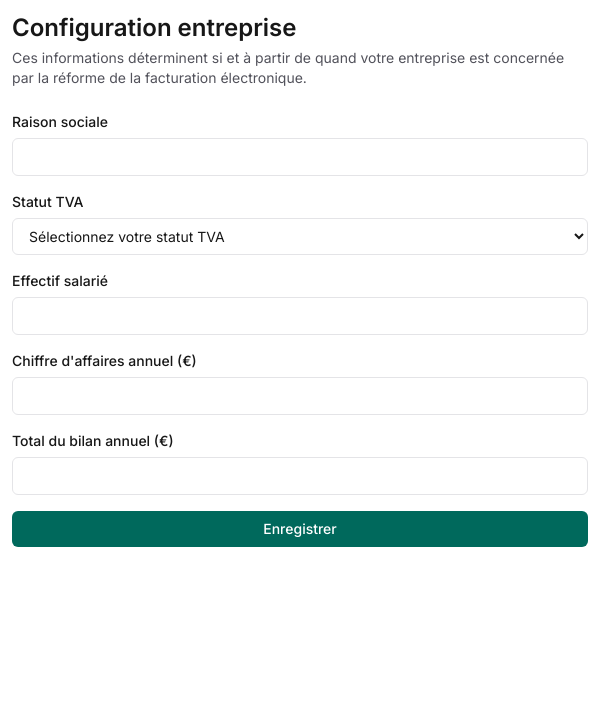
CompanyForm › submits the three raw fiscal values and displays the returned diagnostic
Type "Atelier Test SARL" into the field labelled "Raison sociale" at {"x": 300, "y": 157}, box x1=12 y1=138 x2=588 y2=176
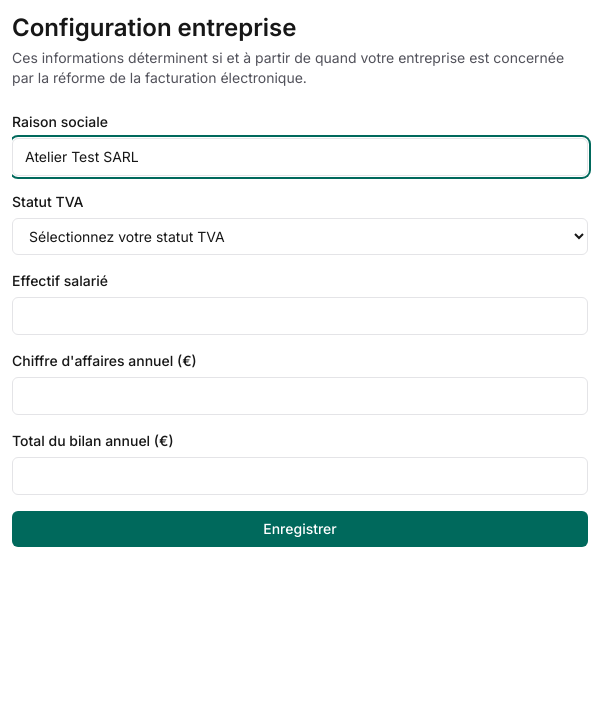
Select "Assujetti, en franchise en base de TVA" in the dropdown labelled "Statut TVA" at {"x": 300, "y": 236}, box x1=12 y1=218 x2=588 y2=255
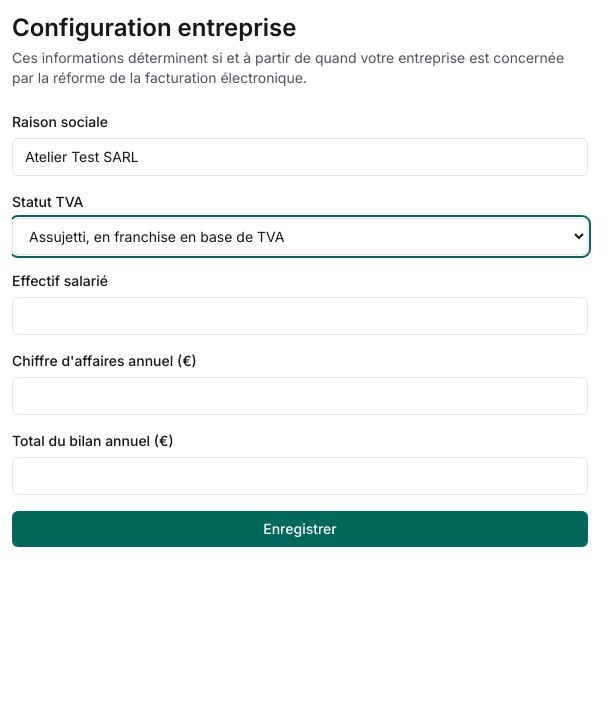
Type "5" into the number field labelled "Effectif salarié" at {"x": 300, "y": 316}, box x1=12 y1=297 x2=588 y2=335
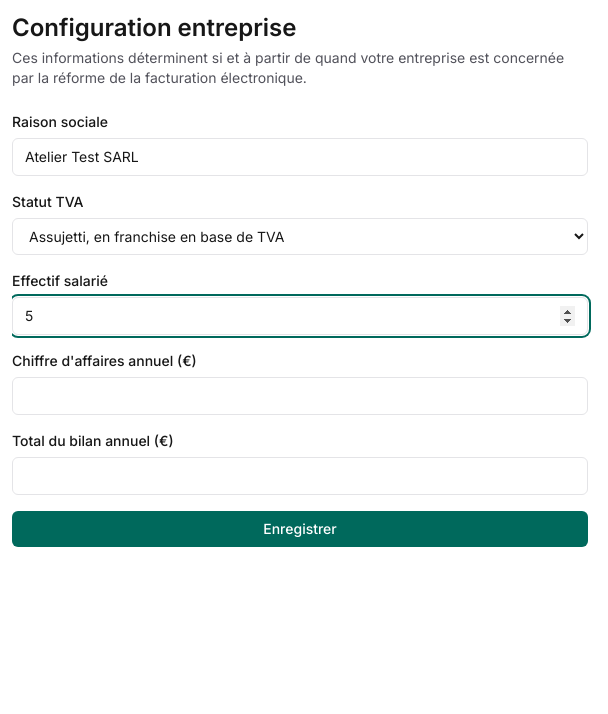
Type "200000" into the number field labelled "Chiffre d'affaires annuel (€)" at {"x": 300, "y": 396}, box x1=12 y1=377 x2=588 y2=415
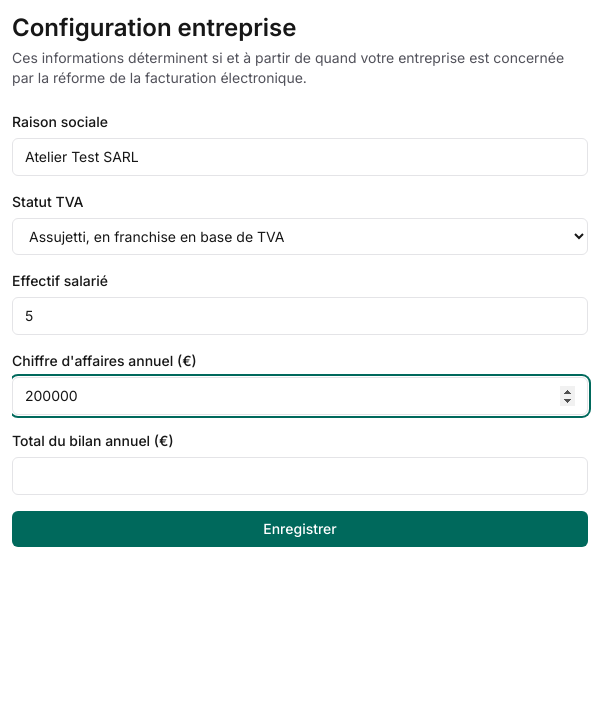
Type "150000" into the number field labelled "Total du bilan annuel (€)" at {"x": 300, "y": 476}, box x1=12 y1=457 x2=588 y2=495
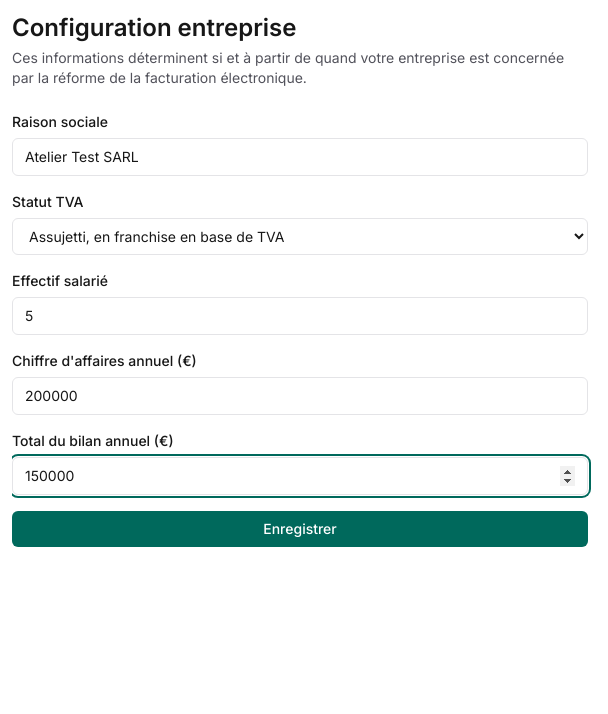
Click the button "Enregistrer" at {"x": 300, "y": 529}, box x1=12 y1=511 x2=588 y2=547
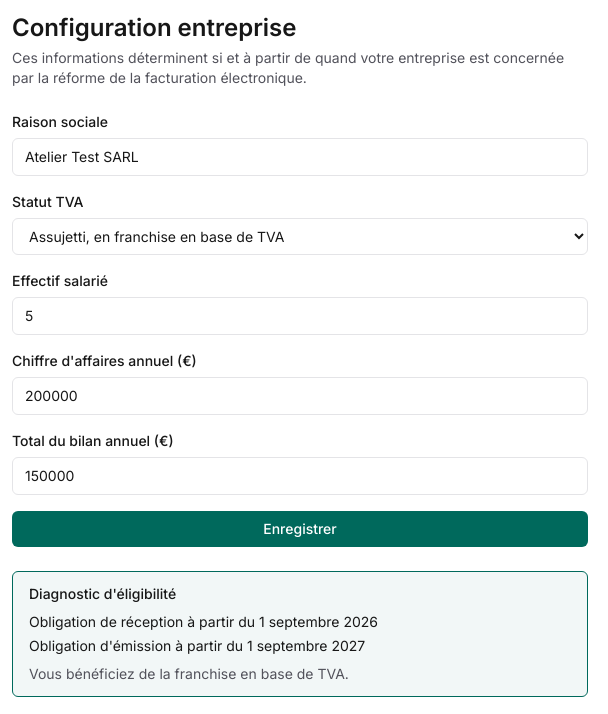
Result: the text "Vous bénéficiez de la franchise en base de TVA." is shown at x1=29 y1=665 x2=349 y2=682
